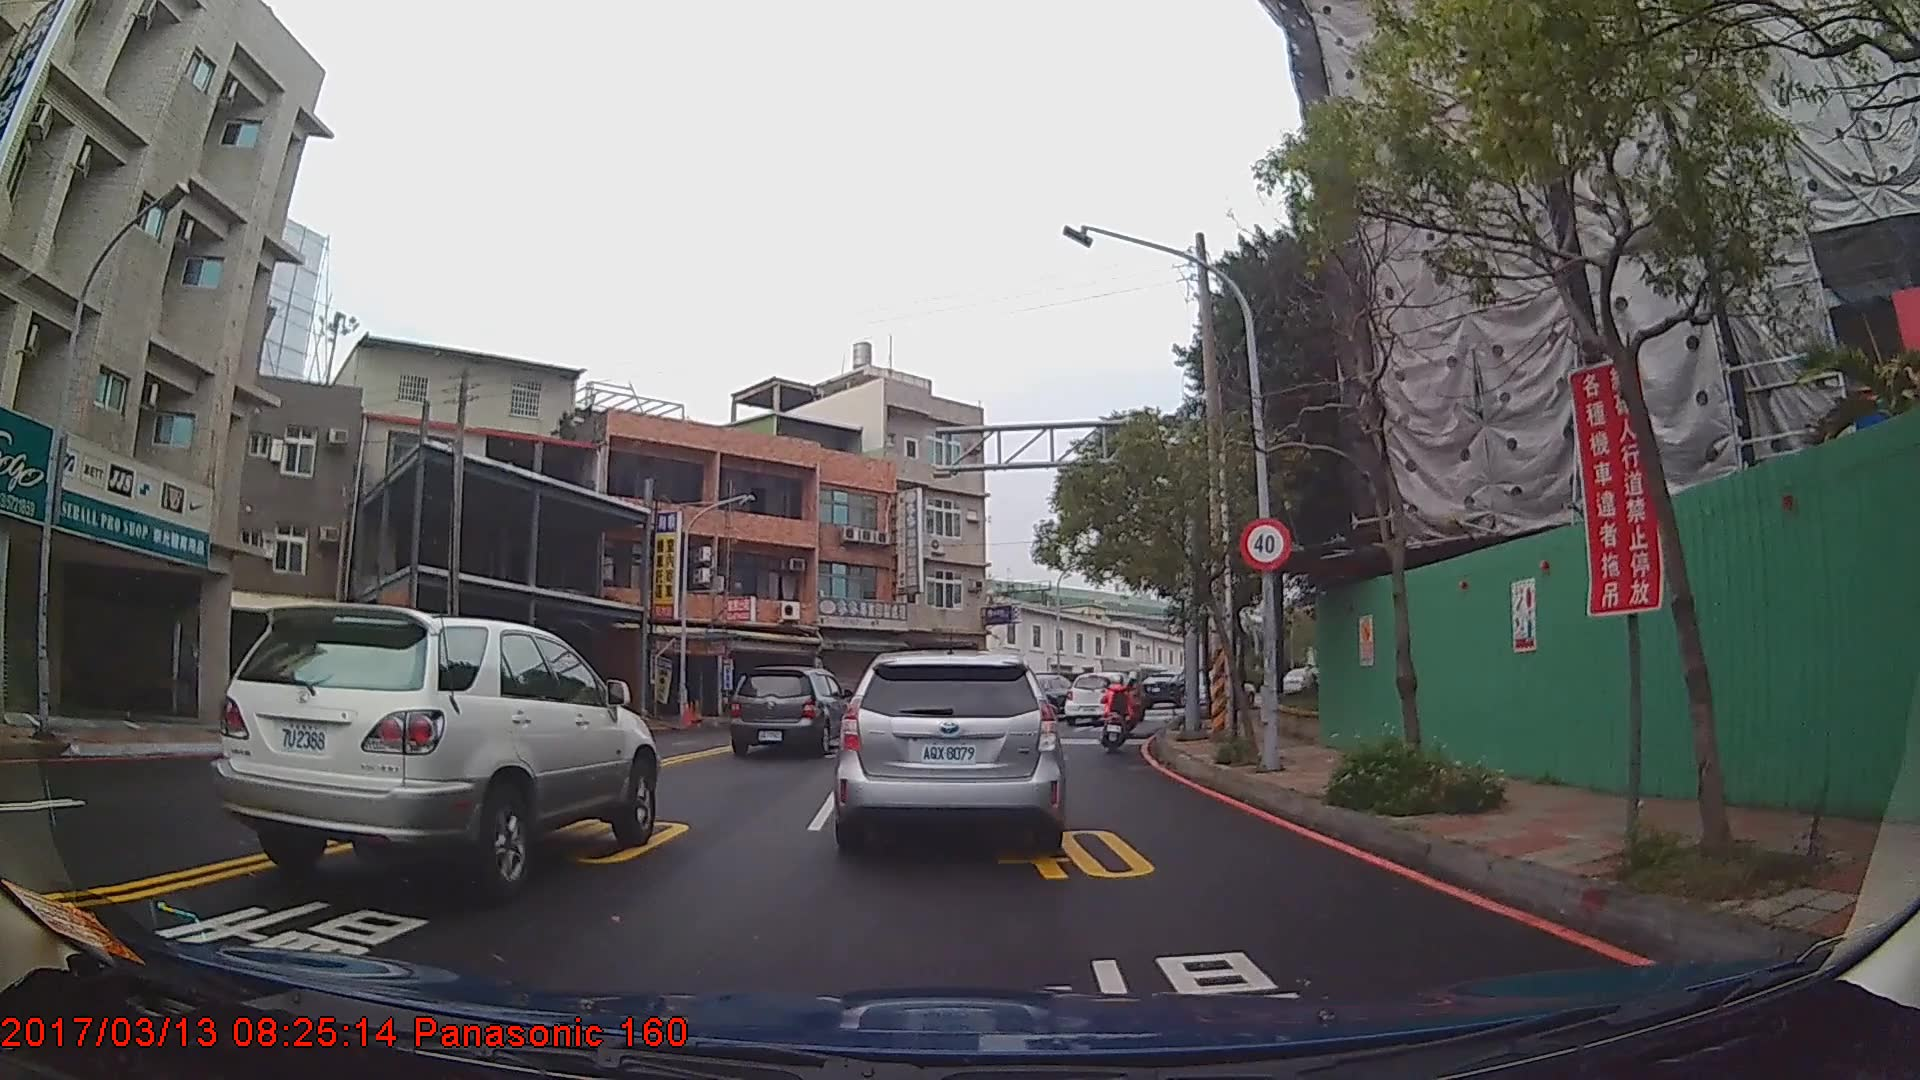rider: (1103, 676, 1134, 753), (1119, 677, 1142, 738)
vehicle: (212, 601, 658, 899), (831, 650, 1065, 856), (728, 666, 854, 758), (1061, 669, 1139, 724)
